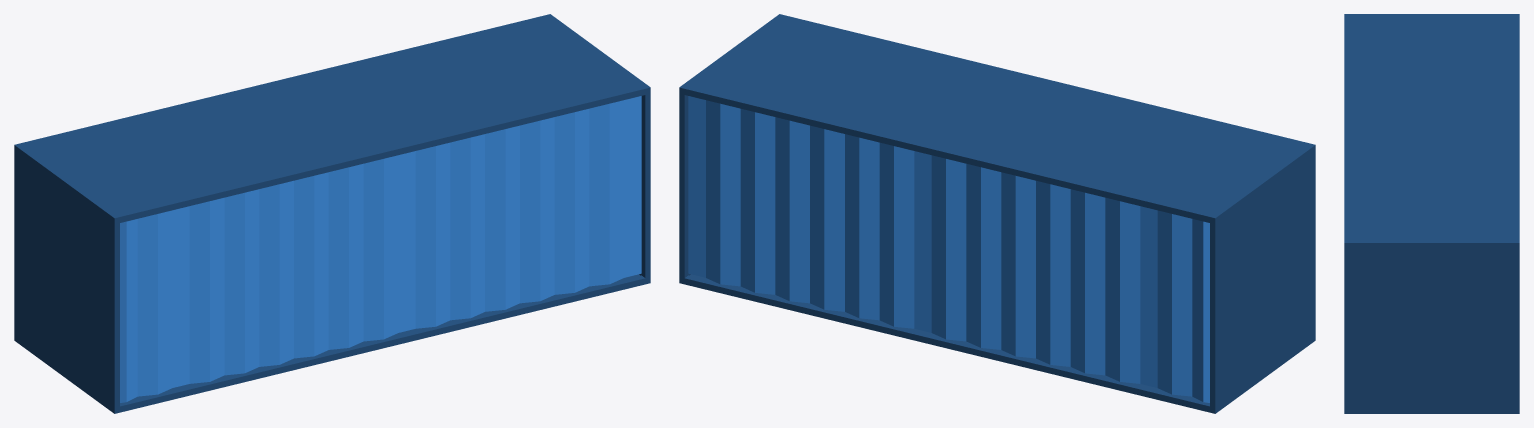
File: Crate.fbx
The picture shows the model from 3 angles, left to right: view 1: azimuth 30°, elevation 25°; view 2: azimuth 150°, elevation 25°; view 3: azimuth 270°, elevation 25°; orthographic projection. The views are drawn at different scales.
Parts seen in each view (by area): view 1: Crate v.2; view 2: Crate v.2; view 3: Crate v.2.
Boxes of the visible parts, x1=… form: Crate v.2: x1=14, y1=14, x2=650, y2=413; Crate v.2: x1=679, y1=14, x2=1315, y2=413; Crate v.2: x1=1344, y1=14, x2=1519, y2=413.
Size of the model in its own units: 2943 by 1026 by 954.
